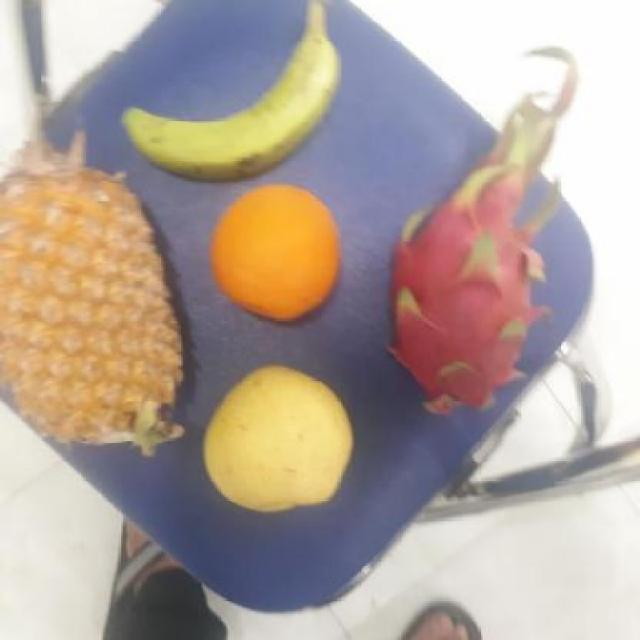banana: (122, 13, 330, 185)
dragon fruit: (380, 147, 588, 410)
oren: (208, 184, 348, 321)
pear: (198, 366, 360, 516)
